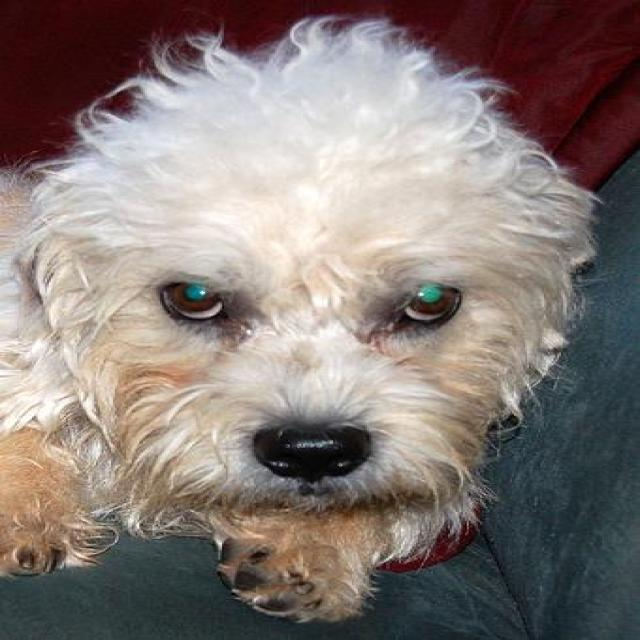dandie_dinmont: (0, 14, 599, 622)
